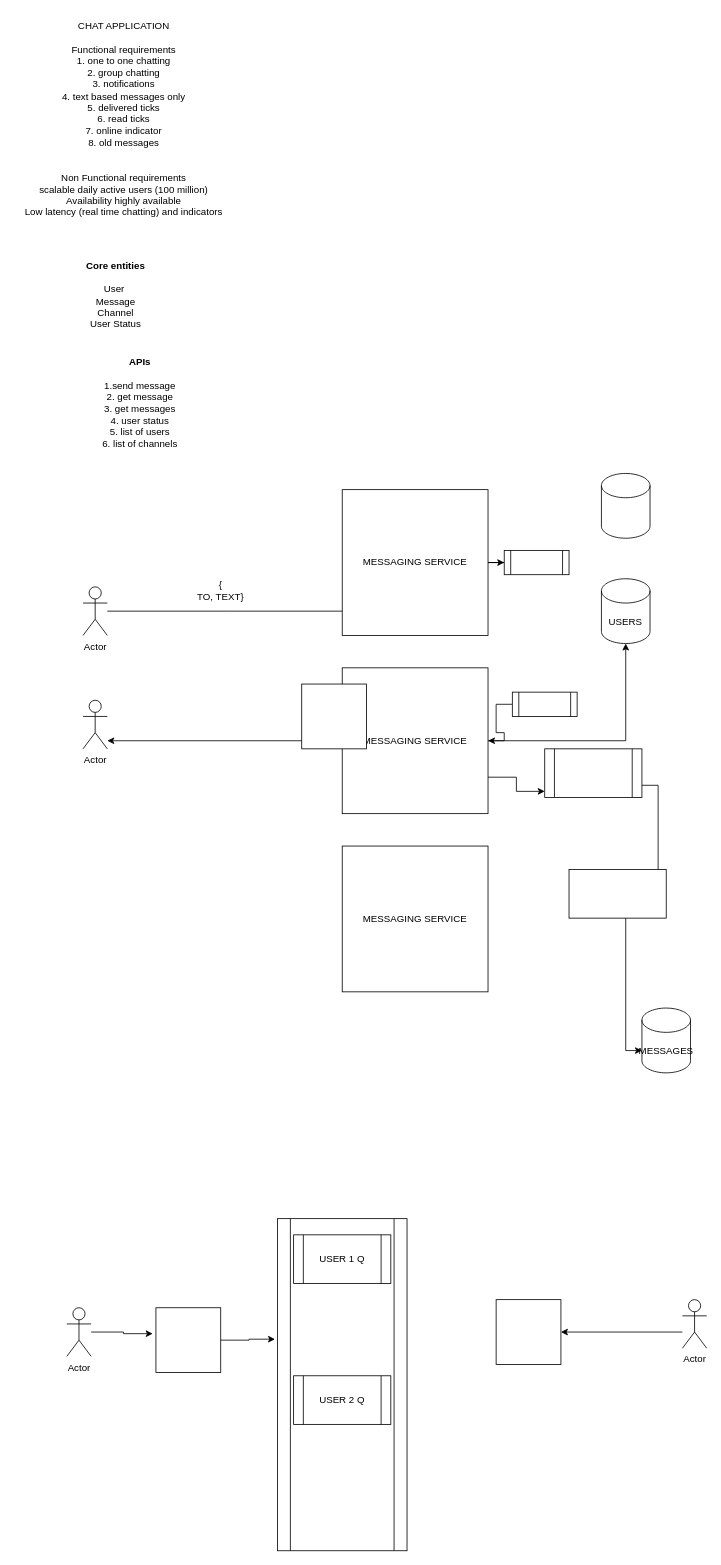
Some shapes in this 721 by 1565 pixel diagram are drawn without their labels. Each missing label, with the centre of its shape:
"DB SERVICE" goes at [617,893].
"MESSAGING SERVICE (USER 2)" goes at [528,1331].
"PERSIST IN QUEUE TO DB" goes at [593,772].
"USER 1 QUEUE" goes at [536,562].
"USER 2 QUEUE" goes at [544,703].
"USERS-CONNS" goes at [625,505].
